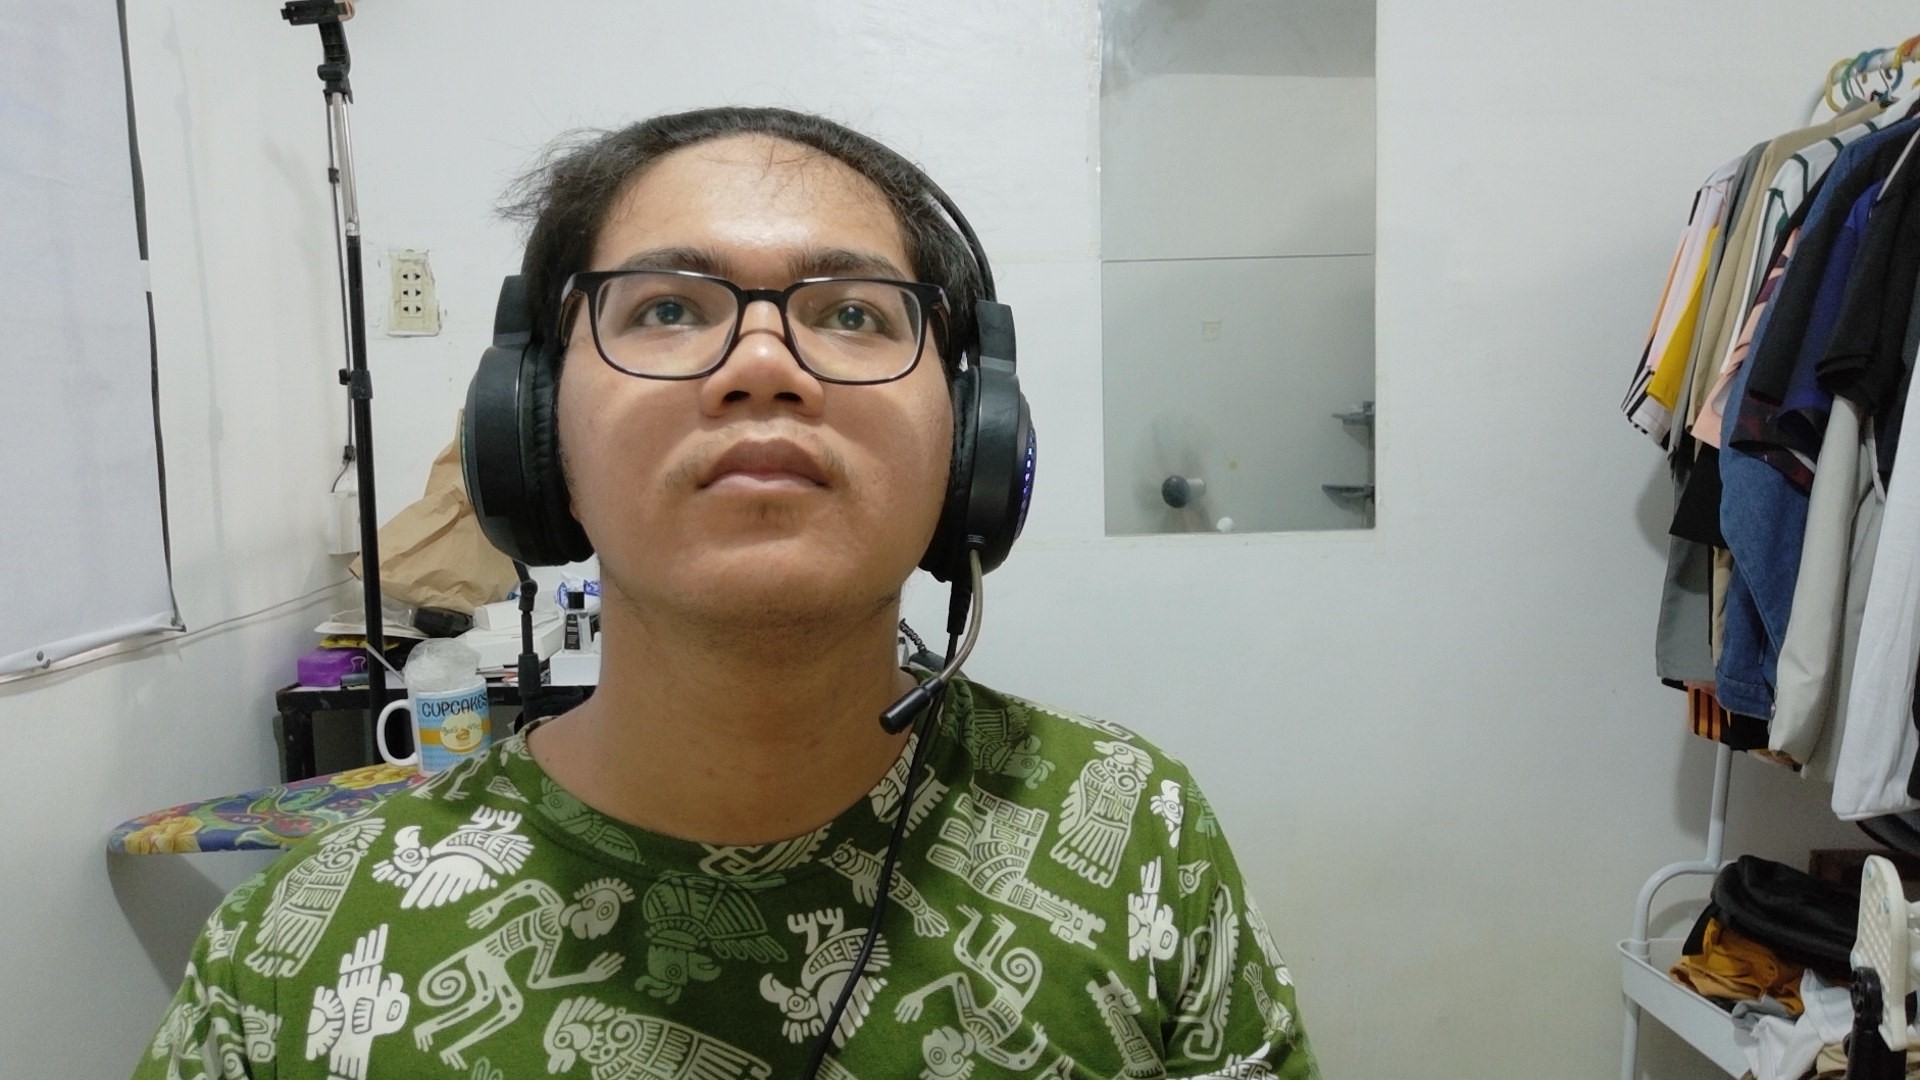face: (451, 52, 1043, 652)
